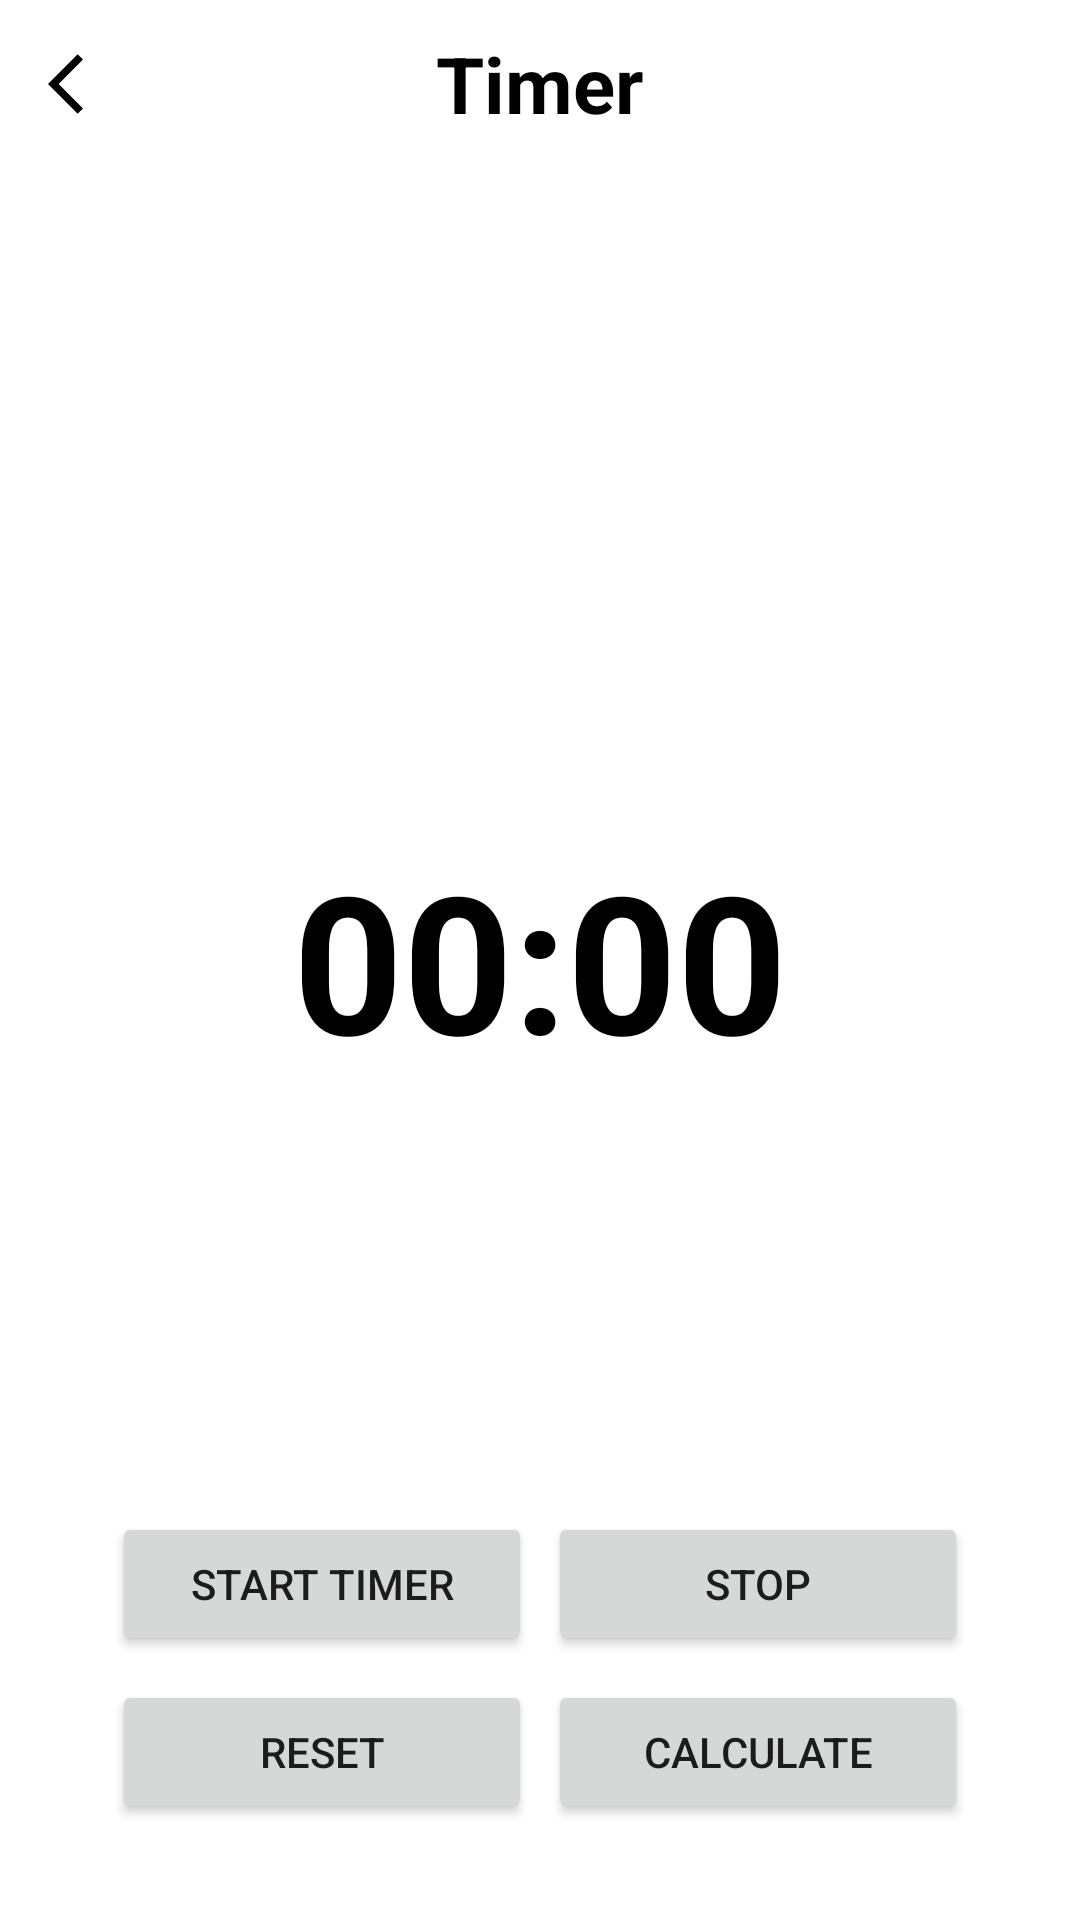

Named icons in this screenshot (1080*1920) and their centers, point (x, y):
Back Button: point (65, 84)
